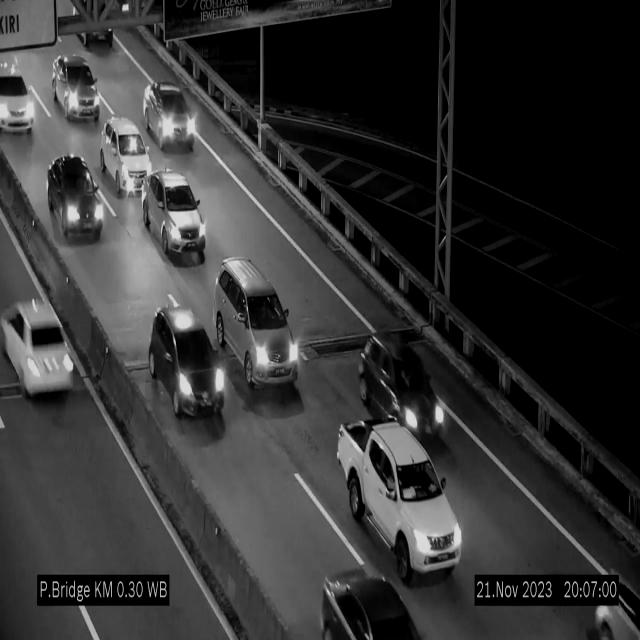Car: (338, 413, 462, 583), (215, 258, 299, 386), (0, 270, 75, 412), (363, 330, 444, 452), (150, 306, 227, 429), (318, 556, 428, 640), (141, 171, 207, 262), (48, 147, 102, 249), (590, 532, 640, 640), (100, 116, 152, 198), (144, 82, 196, 152), (52, 56, 100, 123), (0, 53, 37, 135), (70, 0, 114, 50)
